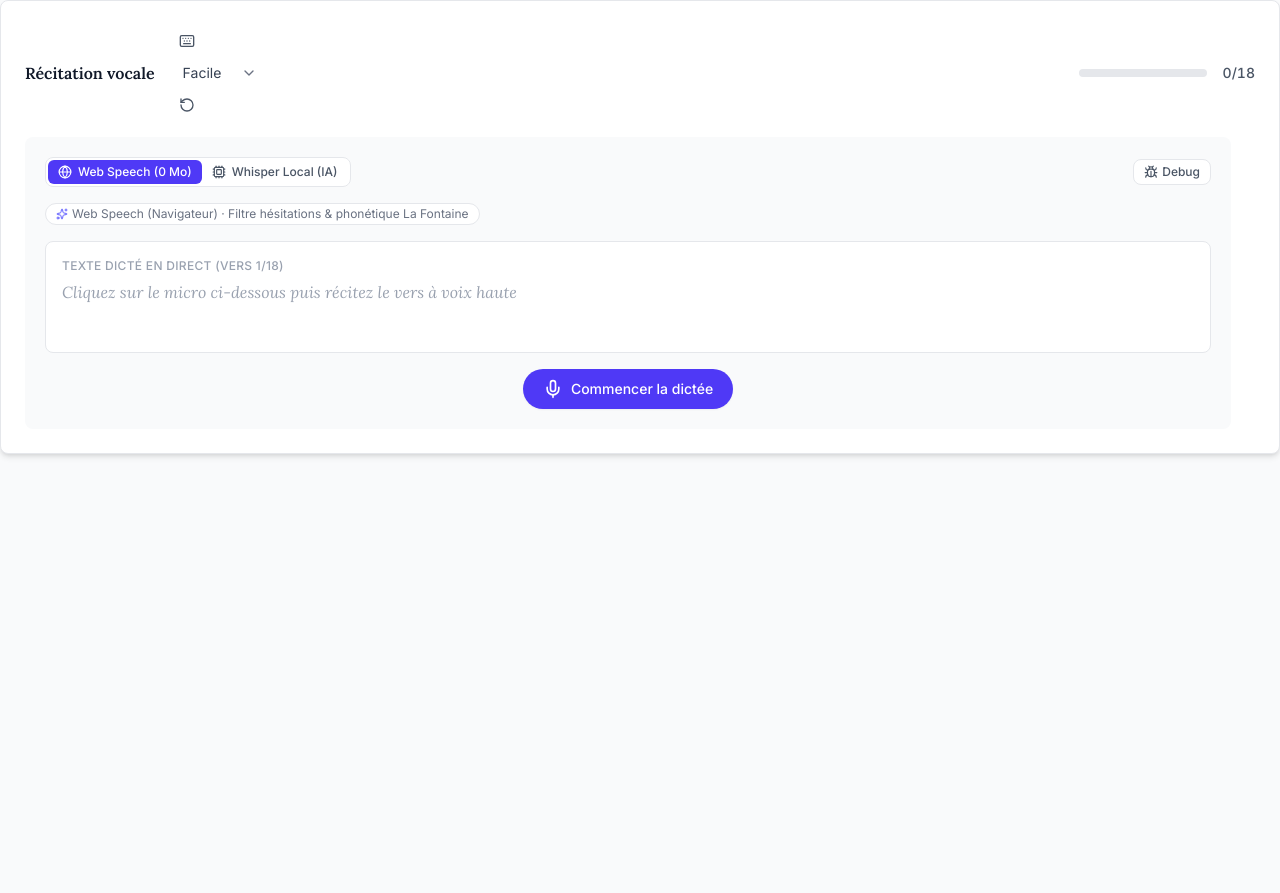
Scenario: VoiceRecitation › ouvre le mode Debug Vocal et valide un vers via le simulateur de dictée avec hésitation
The image size is (1280, 893).
What coordinates should you click on to do the following:
click the button "Debug"
I would click on:
 (1172, 172)
Its box is top-left (1133, 159), bottom-right (1211, 185).
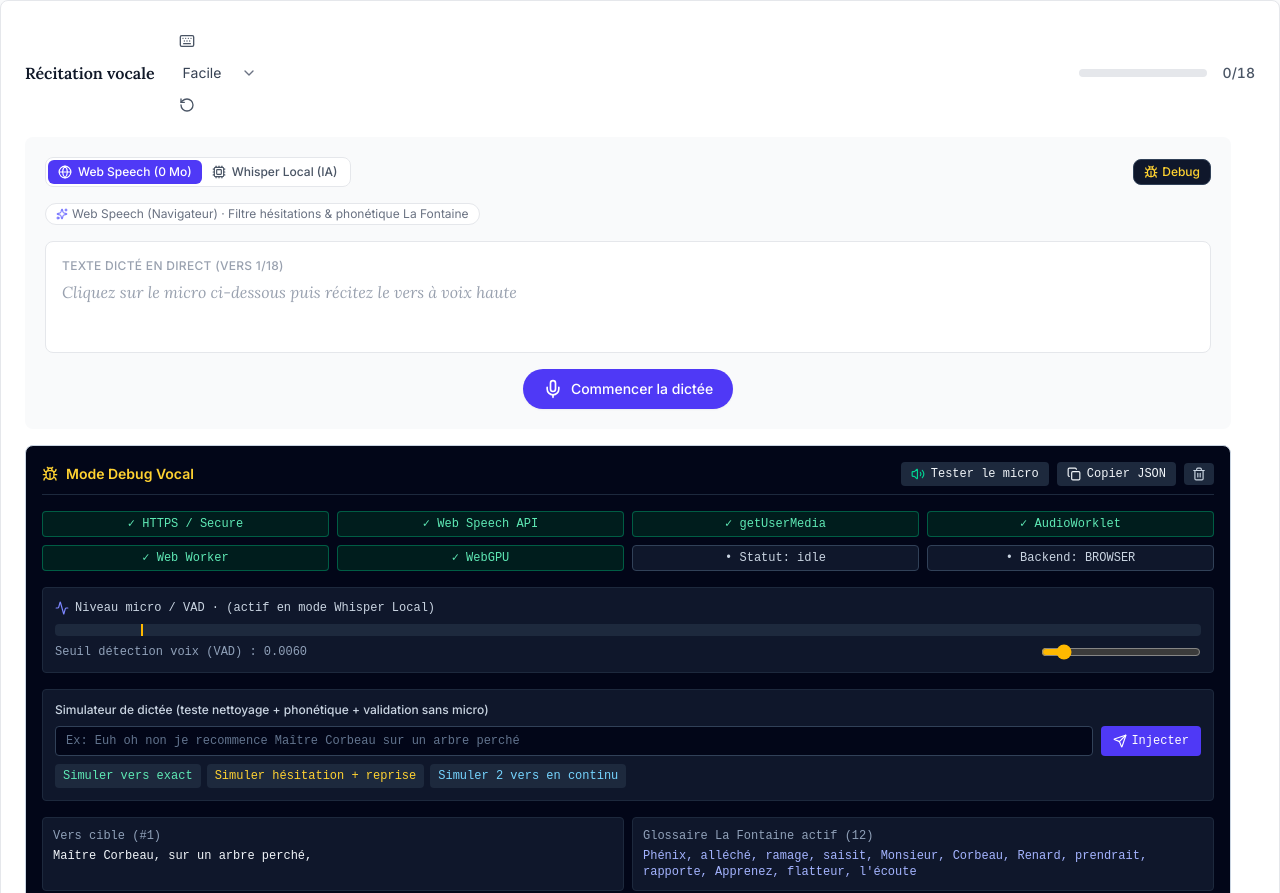
Now the text "Mode Debug Vocal" is shown, box top-left (42, 464), bottom-right (194, 484)
# Injecte un scénario hésitation + reprise via le simulateur
What coordinates should you click on to do the following:
click the button "Simuler hésitation + reprise"
I would click on:
 (315, 776)
Its box is top-left (207, 764), bottom-right (424, 788).
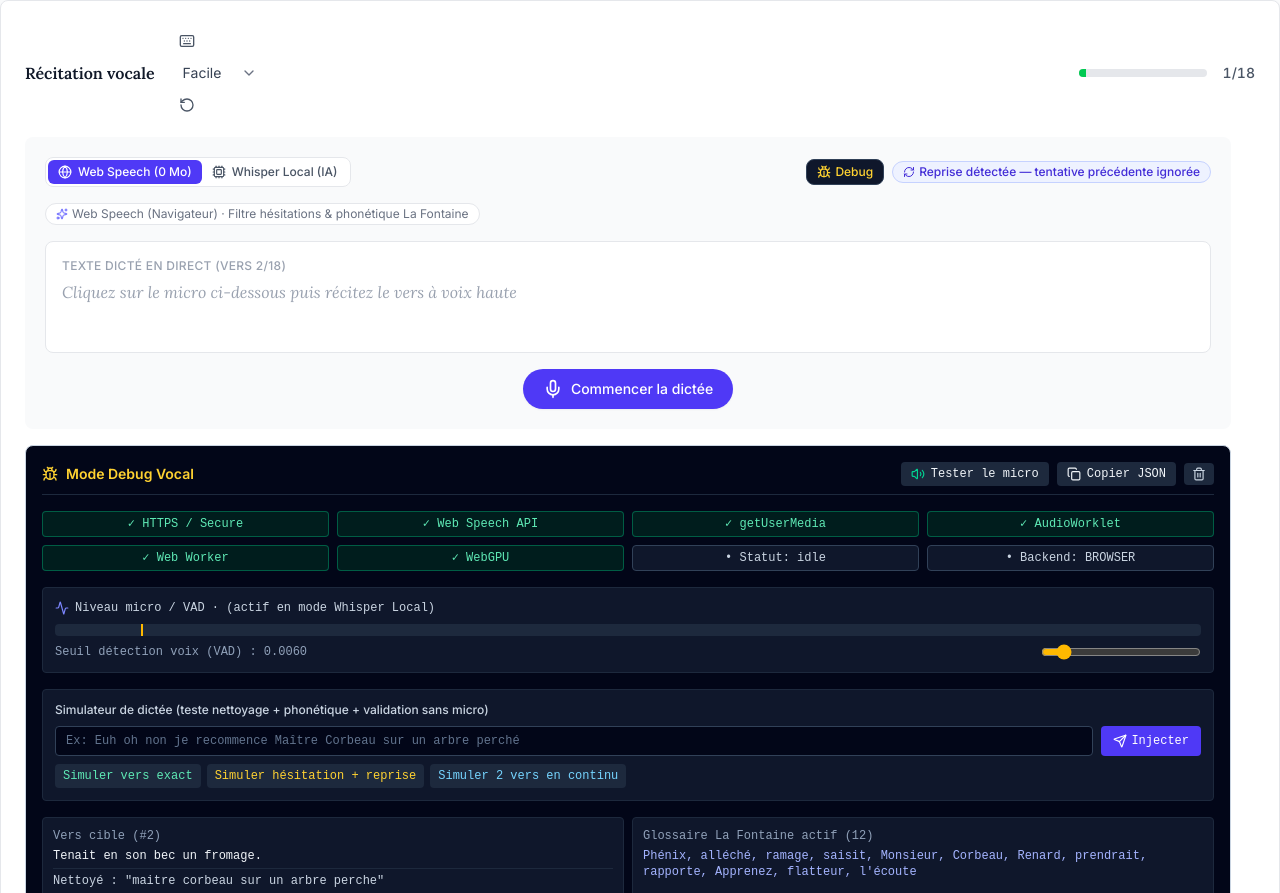
Now the text "Reprise détectée — tentative précédente ignorée" is shown, box top-left (892, 161), bottom-right (1211, 183)
